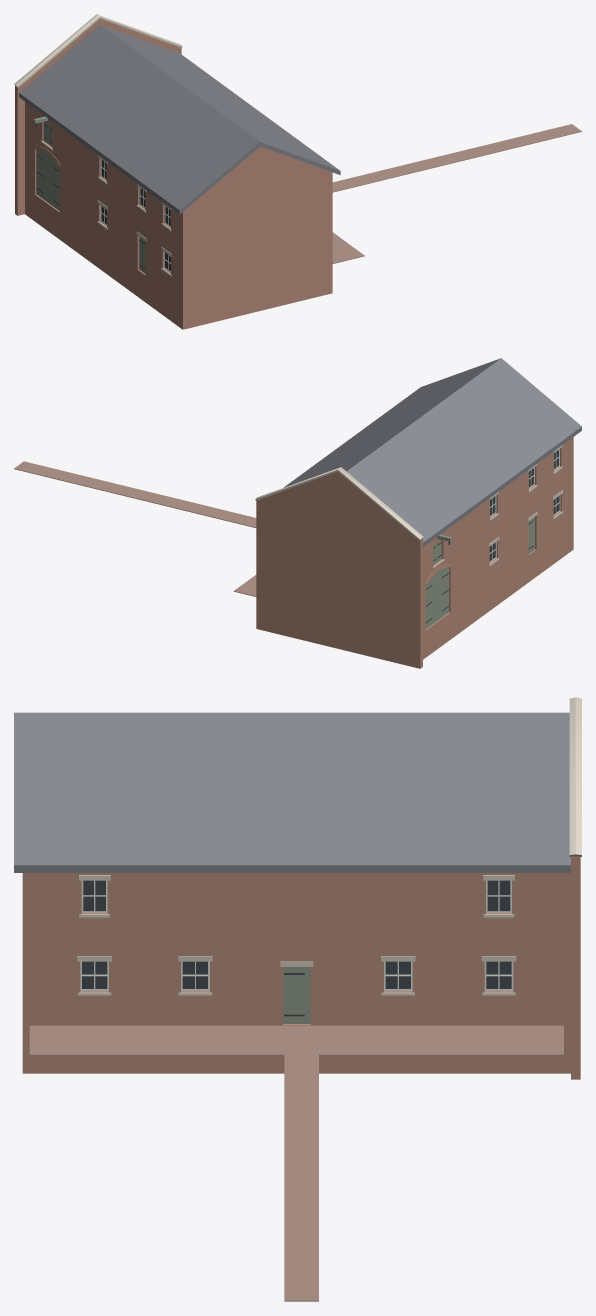
Rendered from glessner_lee_house_1700_prairie_coach_house__as_standing_1904.glb.
3 renders of one model, top to bottom at view 1: azimuth 30°, elevation 25°; view 2: azimuth 150°, elevation 25°; view 3: azimuth 270°, elevation 25°, orthographic. The views are drawn at different scales.
Visible parts, largest first — view 1: glessner_lee_house_1700_prairie_coach_house__as_standing_190; view 2: glessner_lee_house_1700_prairie_coach_house__as_standing_190; view 3: glessner_lee_house_1700_prairie_coach_house__as_standing_190.
Part boxes in pixels (<box>): glessner_lee_house_1700_prairie_coach_house__as_standing_190: <box>14,14,581,329</box>; glessner_lee_house_1700_prairie_coach_house__as_standing_190: <box>14,358,581,668</box>; glessner_lee_house_1700_prairie_coach_house__as_standing_190: <box>14,697,581,1301</box>.
Size of the model in its own units: 33.92 by 11.98 by 19.72.
